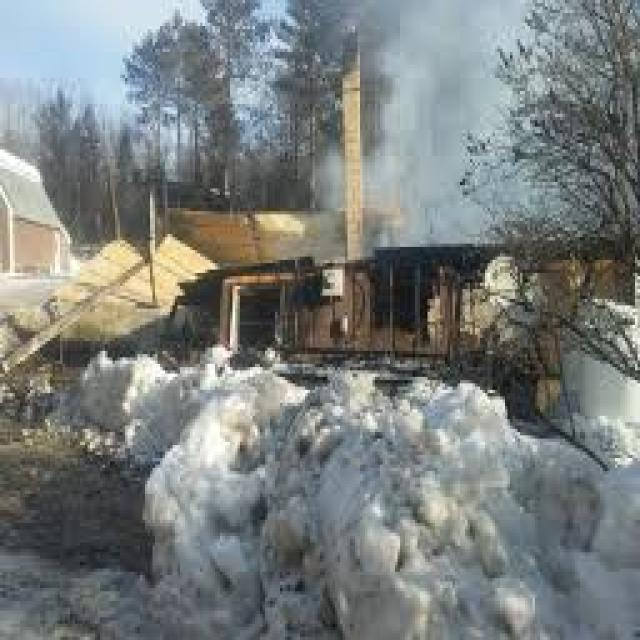Smoke: (309, 0, 611, 248)
